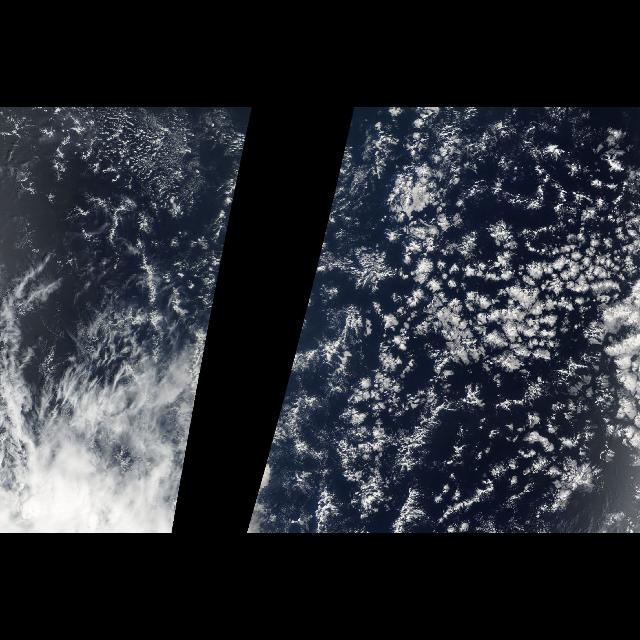Flower: (362, 151, 638, 513)
